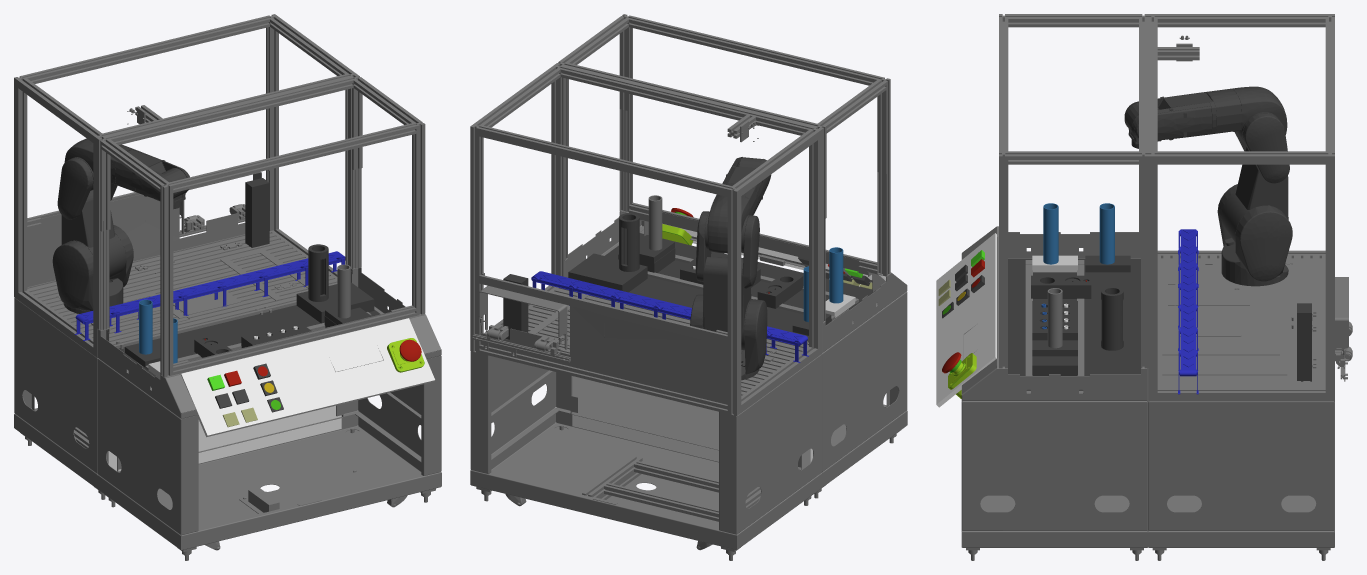
Rendered from jaularobot.fbx.
3 renders of one model, left to right at view 1: azimuth 30°, elevation 25°; view 2: azimuth 150°, elevation 25°; view 3: azimuth 270°, elevation 25°, orthographic. The views are drawn at different scales.
Visible parts, largest first — view 1: jaula, Box003, Untitled_003, Box001, Cylinder001_Material__0_0, Box002, Box020, Box013, Tube002, Box018, Tube003, Tube001 (+2 smaller); view 2: jaula, Untitled_003, Box001, Box002, Cylinder001_Material__0_0, Box013, Tube002, Box019, Box020, Tube004, Tube001; view 3: jaula, Untitled_003, Box003, Box002, Cylinder001_Material__0_0, Tube002, Box013, Box019, Box018, Box020, Tube003, Tube004 (+6 smaller).
Boxes of the visible parts, x1,y1,x2,y2 form: jaula: (14,14,441,560); Box003: (180,318,434,437); Untitled_003: (52,138,189,313); Box001: (107,405,341,472); Cylinder001_Material__0_0: (74,251,345,340); Box002: (118,305,380,378); Box020: (245,178,269,247); Box013: (296,282,374,323); Tube002: (308,244,328,301); Box018: (241,322,311,347); Tube003: (139,299,152,354); Tube001: (337,264,350,318); jaula: (470,14,907,560); Untitled_003: (690,157,771,380); Box001: (572,376,812,469); Box002: (605,233,875,342); Cylinder001_Material__0_0: (531,271,808,362); Box013: (568,253,647,292); Tube002: (619,213,639,271); Box019: (757,271,803,308); Box020: (503,274,528,339); Tube004: (829,247,843,303); Tube001: (648,195,662,250); jaula: (961,14,1352,560); Untitled_003: (1124,86,1292,286); Box003: (936,233,996,407); Box002: (996,259,1140,390); Cylinder001_Material__0_0: (1178,229,1198,394); Tube002: (1101,286,1123,350); Box013: (1088,347,1140,375); Box019: (1031,275,1091,298); Box018: (1032,301,1077,340); Box020: (1297,303,1311,381); Tube003: (1099,203,1114,264); Tube004: (1043,203,1058,264).
Bounding box in the file's own units: 44.93 × 60.5 × 54.97.
